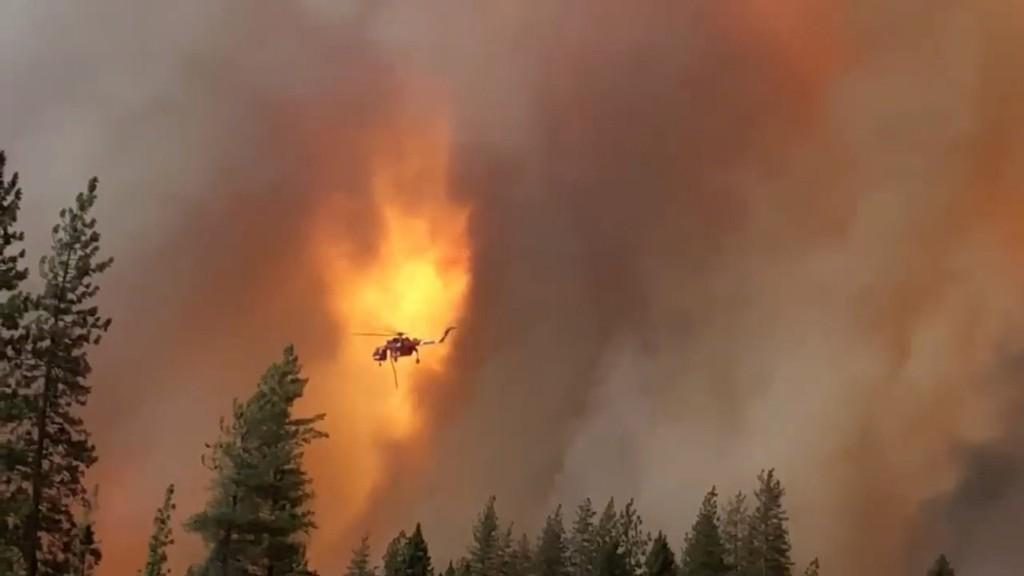fire: (340, 256, 440, 349)
